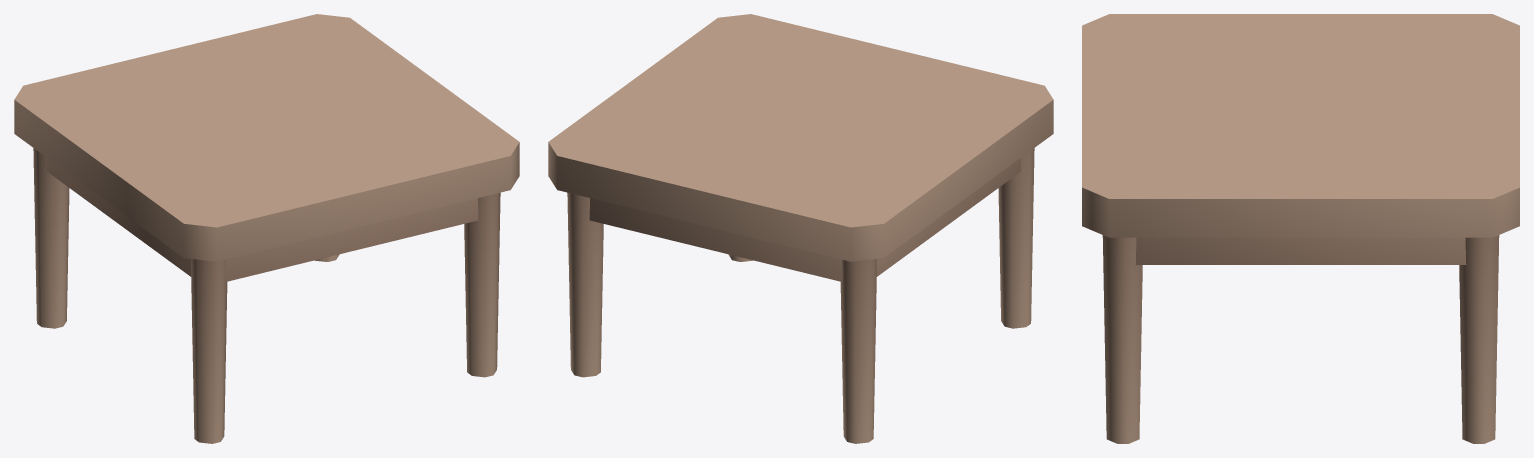
Rendered from table-classic-wood-square.glb.
The picture shows the model from 3 angles, left to right: view 1: azimuth 30°, elevation 25°; view 2: azimuth 150°, elevation 25°; view 3: azimuth 270°, elevation 25°; orthographic projection. The views are drawn at different scales.
Visible parts, largest first — view 1: table-classic-wood-square; view 2: table-classic-wood-square; view 3: table-classic-wood-square.
Part boxes in pixels (x1,y1,x2,y2): table-classic-wood-square: [14, 14, 519, 443]; table-classic-wood-square: [548, 14, 1053, 443]; table-classic-wood-square: [1082, 14, 1519, 443].
Bounding box in the file's own units: 0.8 × 0.5146 × 0.8.
